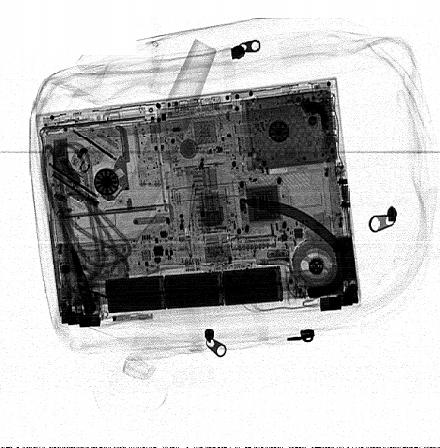Bullet: (70, 240, 98, 314)
